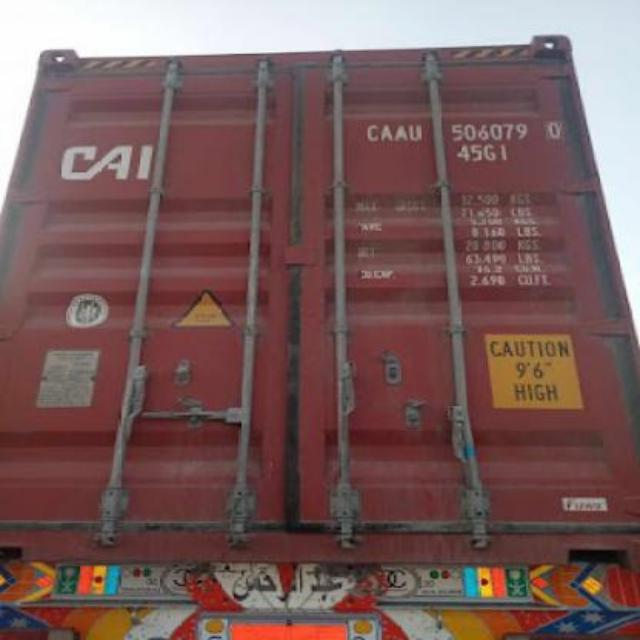0: (544, 119, 566, 143), (460, 118, 476, 146), (488, 114, 502, 146)
5: (451, 119, 464, 145)
6: (478, 118, 488, 144)
7: (502, 116, 514, 146)
9: (514, 118, 526, 148)
A: (394, 118, 408, 148), (378, 122, 394, 146)
C: (362, 118, 378, 146)
U: (408, 118, 422, 148)
